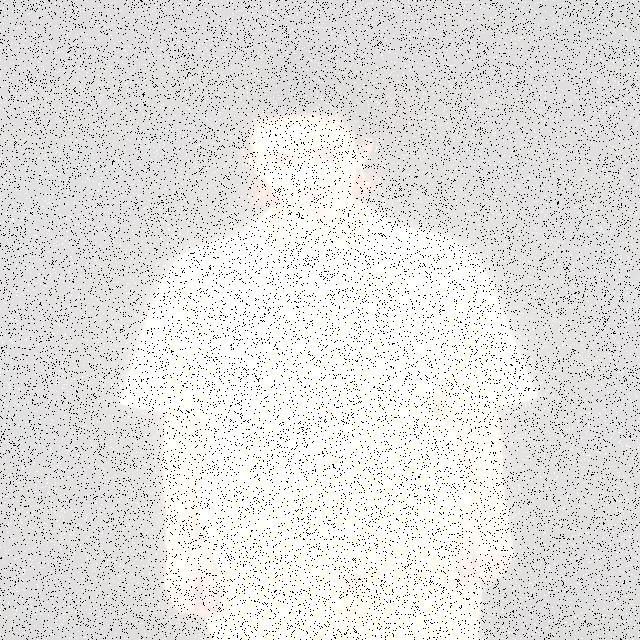Blouse_deep: (116, 218, 520, 569)
